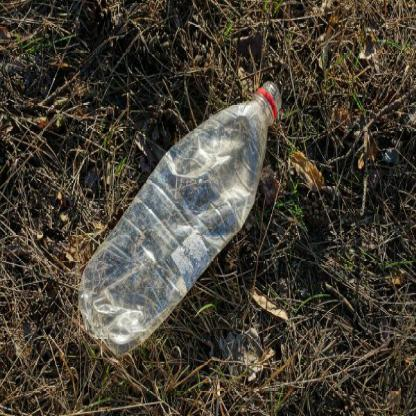bottle: (63, 40, 296, 368)
